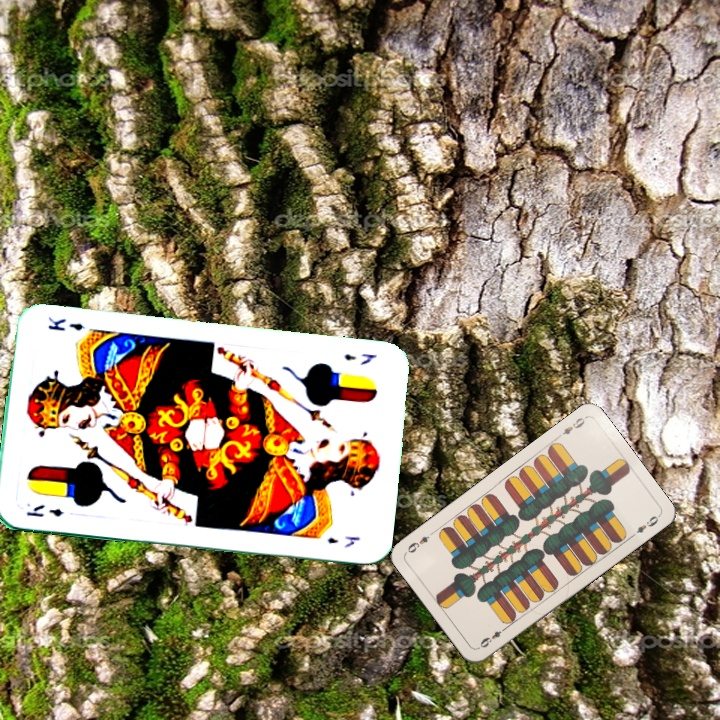E9: (553, 413, 588, 441), (476, 623, 510, 650)
EK: (22, 500, 65, 520), (340, 349, 379, 368)
